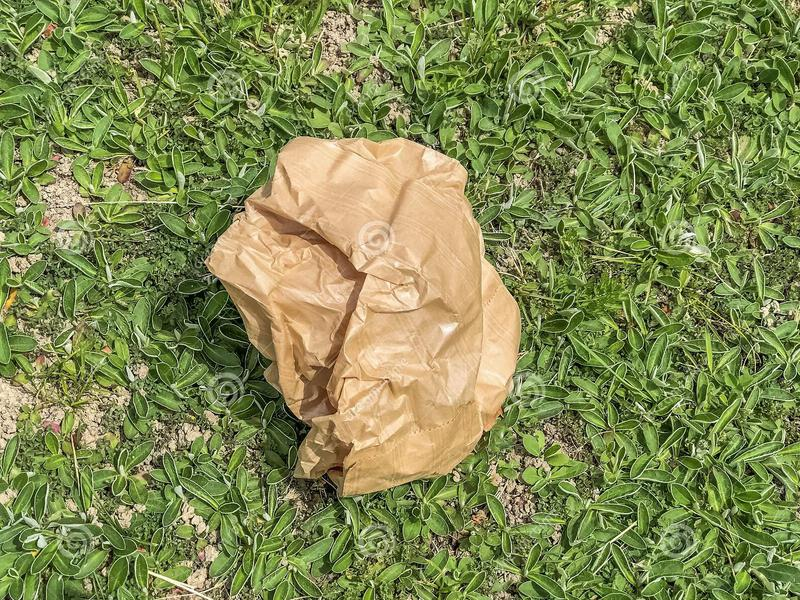paper: (193, 128, 534, 502)
